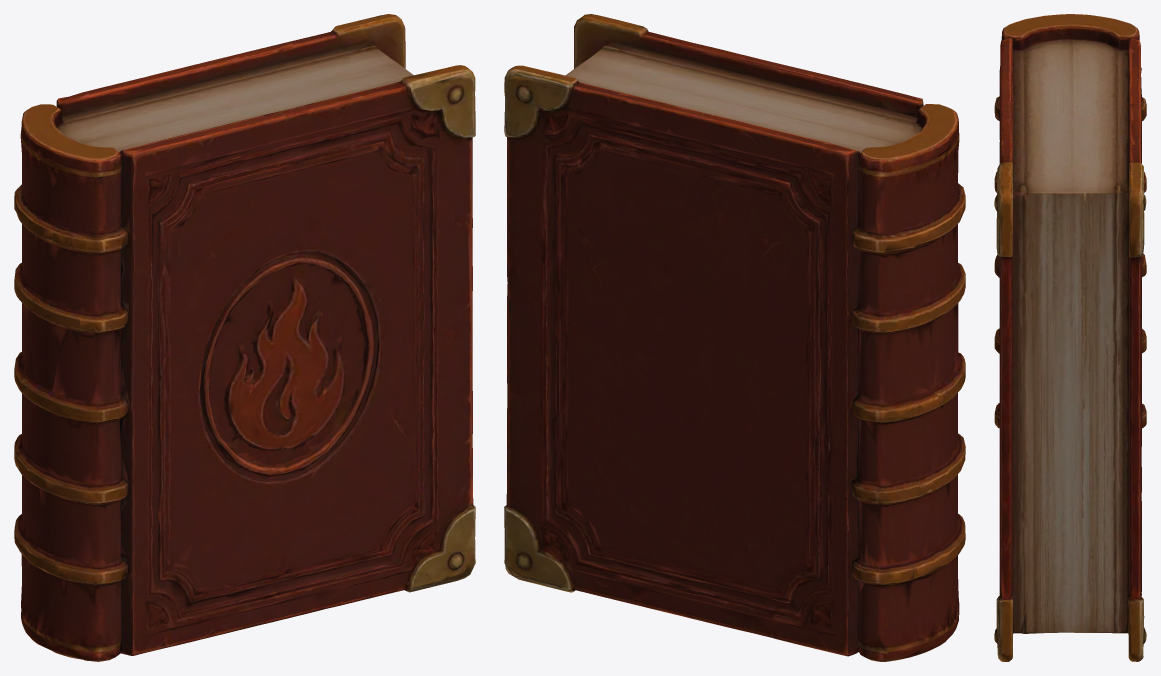
The model's file is study_book_a_v1.glb.
3 views of the same model, side by side, from view 1: azimuth 30°, elevation 25°; view 2: azimuth 150°, elevation 25°; view 3: azimuth 270°, elevation 25° (orthographic). The views are drawn at different scales.
Parts seen in each view (by area): view 1: tripo_node_b0bccd50-9727-40ba-9bcc-9183d7a66488; view 2: tripo_node_b0bccd50-9727-40ba-9bcc-9183d7a66488; view 3: tripo_node_b0bccd50-9727-40ba-9bcc-9183d7a66488.
Part boxes in pixels (bbox=[...]): tripo_node_b0bccd50-9727-40ba-9bcc-9183d7a66488: bbox=[14, 14, 475, 661]; tripo_node_b0bccd50-9727-40ba-9bcc-9183d7a66488: bbox=[504, 14, 965, 661]; tripo_node_b0bccd50-9727-40ba-9bcc-9183d7a66488: bbox=[994, 14, 1146, 661].
Bounding box in the file's own units: 0.8212 × 0.9811 × 0.2861.
1 material, 1 textured.
